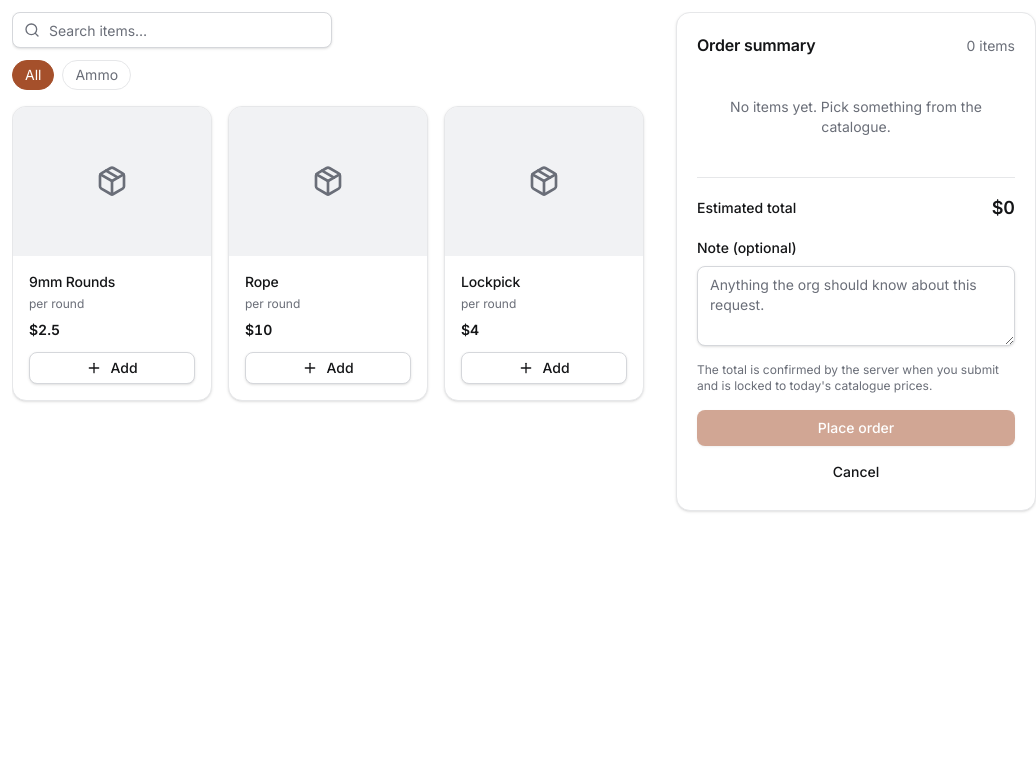
OrderBuilder › adds, steps and types quantities per card, and totals them
Click the button "Add" below "$10" at (328, 368), box [245,352,411,384]
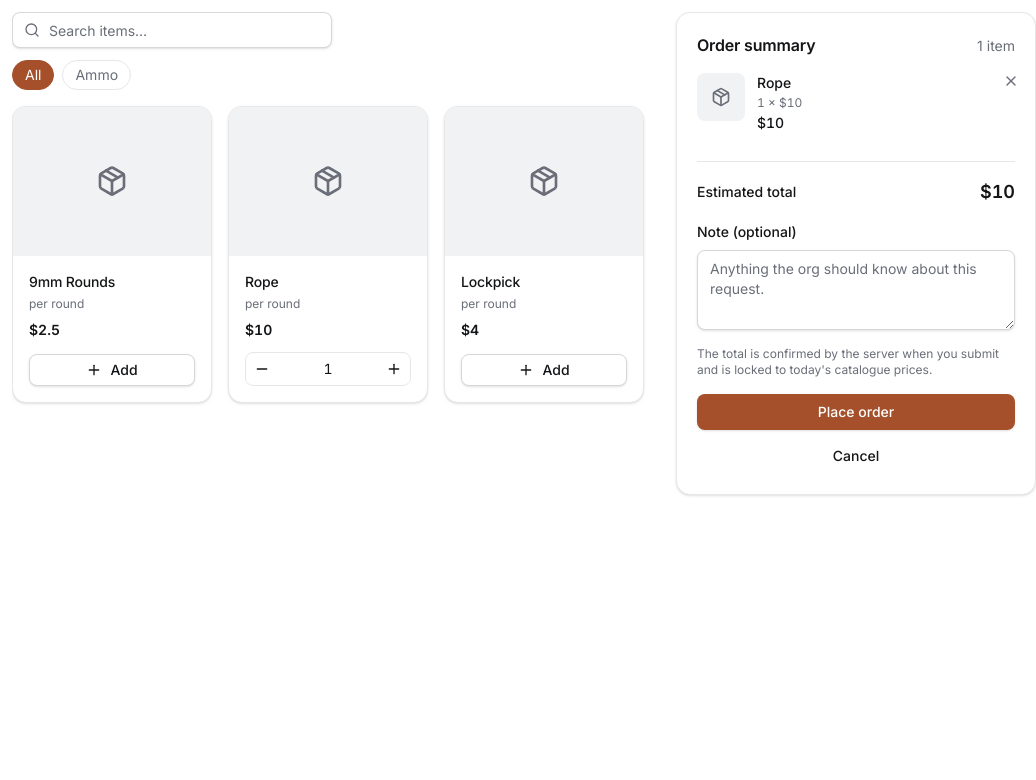
Click the button named "Increase quantity of Rope" at (394, 368), box [378,352,410,384]
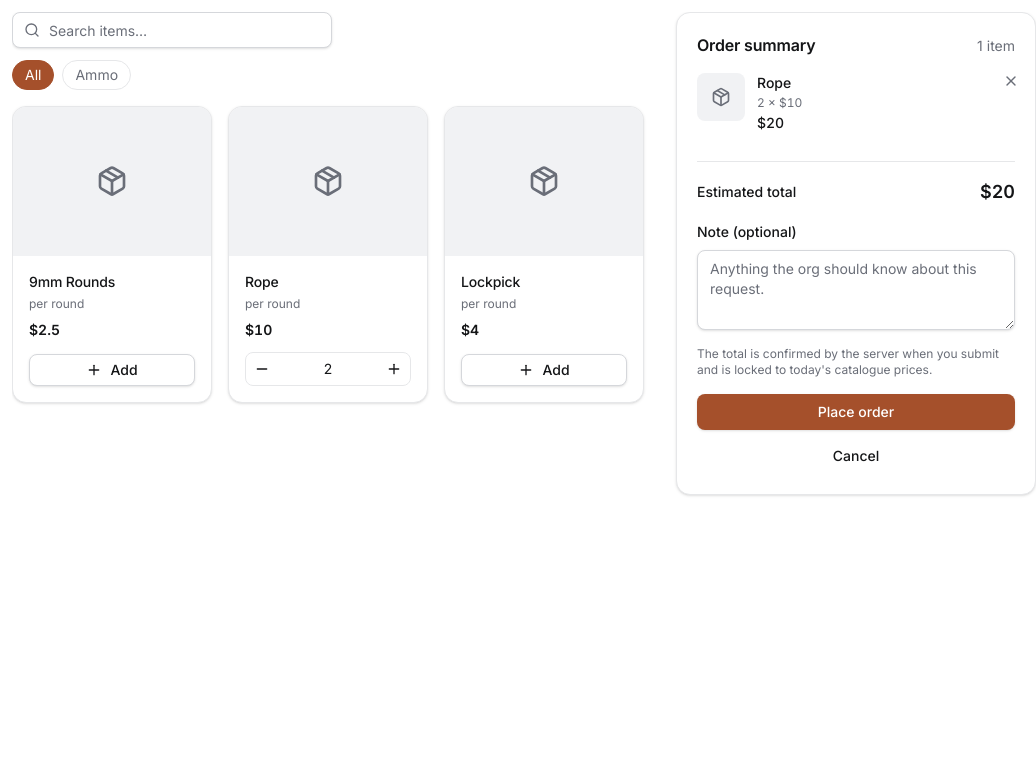
Check: the field named "Quantity of Rope" holds "2", box [278,358,378,378]
Click the button "Add" below "$2.5" at (112, 370), box [29,354,195,386]
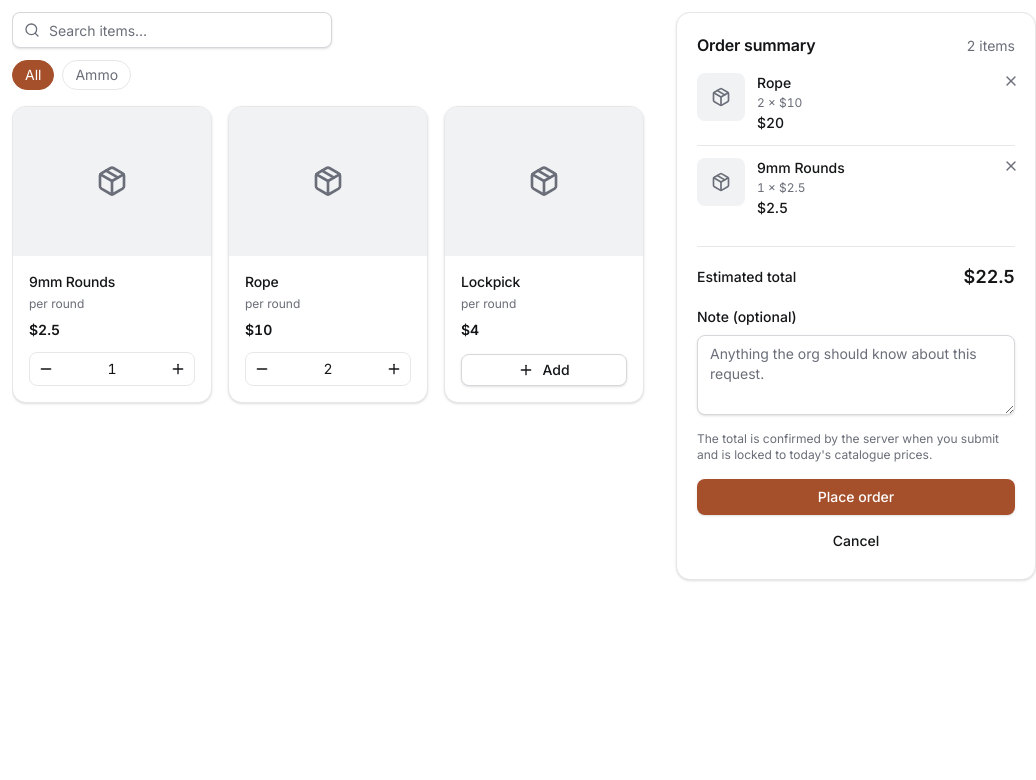
Replace the text in the field named "Quantity of 9mm Rounds" with "4x" at (112, 368), box [62,358,162,378]
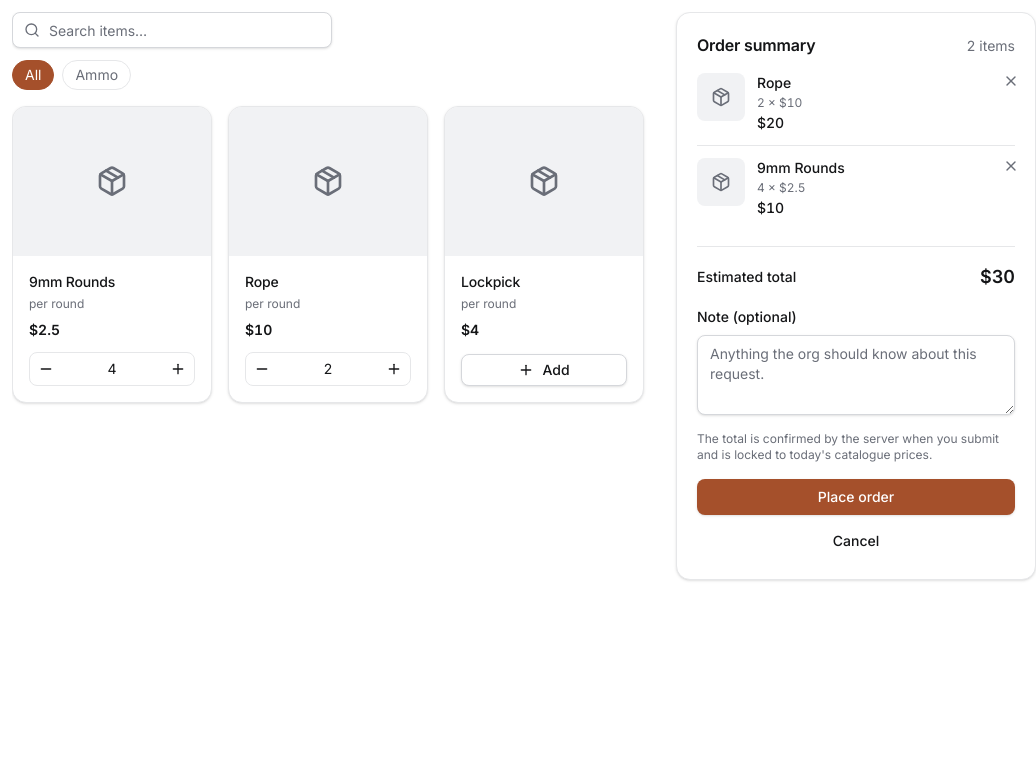
Check: the field named "Quantity of Rope" holds "2", box [278,358,378,378]
Check: the text "2 items" is shown, box [967,36,1015,56]
Check: the field named "Quantity of 9mm Rounds" holds "4", box [62,358,162,378]
Click the button named "Decrease quantity of Rope" at (262, 368), box [246,352,278,384]
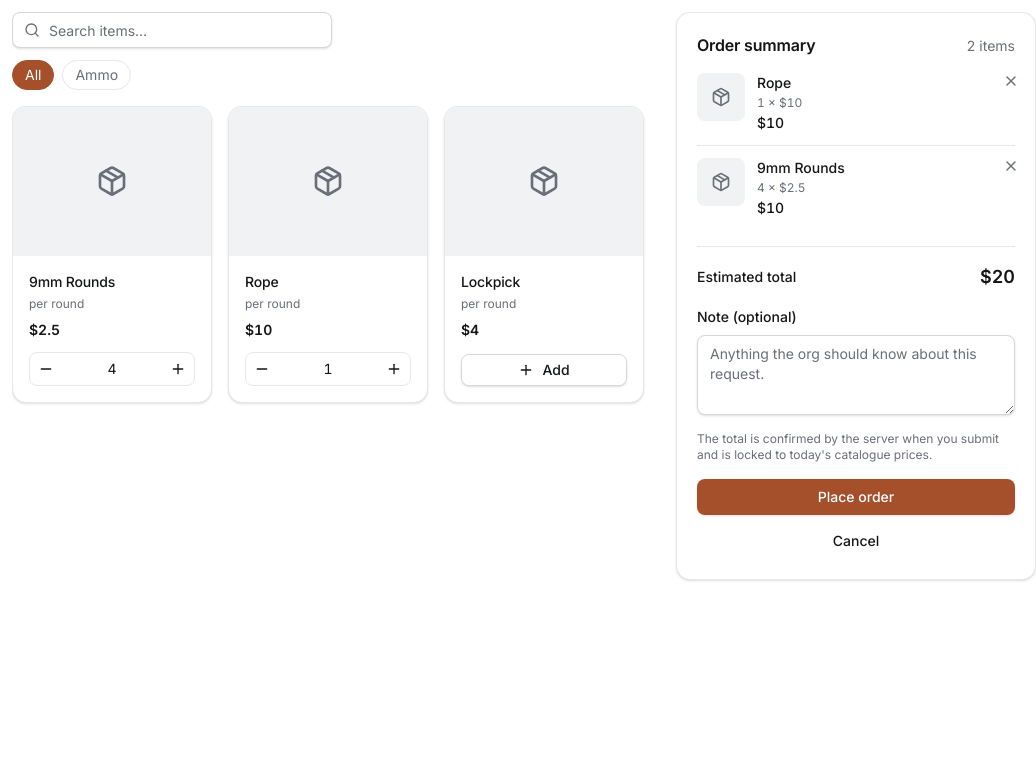
Click the button named "Decrease quantity of Rope" at (262, 368), box [246,352,278,384]
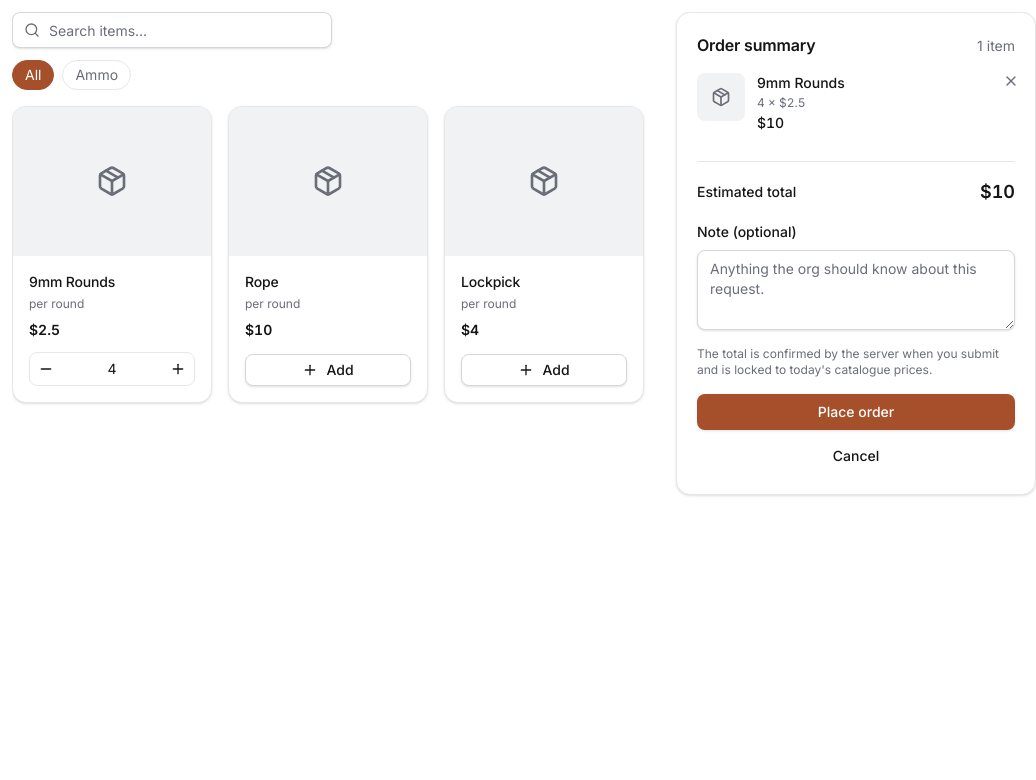
Check: the text "1 item" is shown, box [977,36,1015,56]
